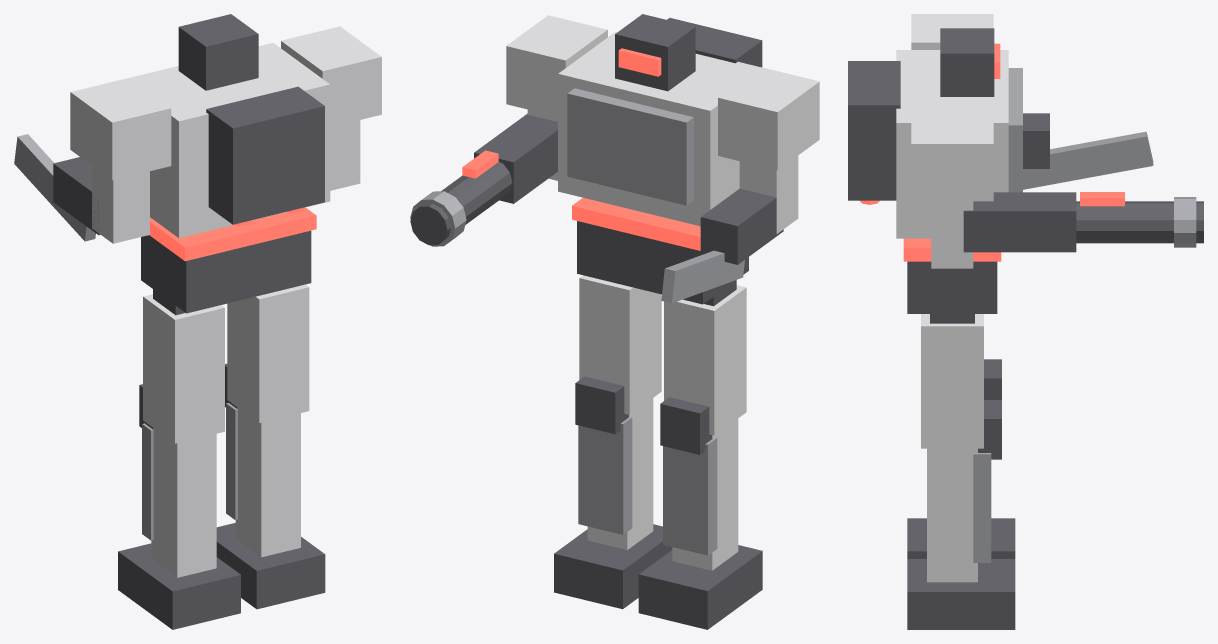
File: jp_ronin.glb
3 renders of one model, left to right at view 1: azimuth 30°, elevation 25°; view 2: azimuth 150°, elevation 25°; view 3: azimuth 270°, elevation 25°, orthographic.
Visible parts, largest first — view 1: Turret, Thigh, Thigh.001, Pelvis, Shin, Shin.001, Foot, Foot.001, PelvisTrim, ShinPlate, ShinPlate.001; view 2: Turret, Thigh, Thigh.001, Foot, Foot.001, Pelvis, ShinPlate, ShinPlate.001, Shin, Shin.001, PelvisTrim, Knee.001 (+1 smaller); view 3: Turret, Thigh.001, Foot.001, Shin.001, Pelvis, ShinPlate.001, Foot, Knee.001, PelvisTrim, Knee.
Boxes of the visible parts, x1=… form: Turret: x1=14, y1=14, x2=381, y2=243; Thigh: x1=143, y1=294, x2=224, y2=443; Thigh.001: x1=227, y1=284, x2=309, y2=423; Pelvis: x1=141, y1=230, x2=311, y2=313; Shin: x1=151, y1=428, x2=216, y2=577; Shin.001: x1=235, y1=407, x2=300, y2=557; Foot: x1=118, y1=543, x2=240, y2=629; Foot.001: x1=216, y1=523, x2=325, y2=609; PelvisTrim: x1=149, y1=207, x2=316, y2=261; ShinPlate: x1=142, y1=423, x2=153, y2=540; ShinPlate.001: x1=226, y1=403, x2=237, y2=519; Turret: x1=410, y1=14, x2=819, y2=303; Thigh: x1=664, y1=285, x2=746, y2=435; Thigh.001: x1=579, y1=275, x2=661, y2=414; Foot: x1=638, y1=545, x2=762, y2=629; Foot.001: x1=554, y1=524, x2=672, y2=609; Pelvis: x1=577, y1=221, x2=748, y2=304; ShinPlate: x1=663, y1=437, x2=717, y2=555; ShinPlate.001: x1=578, y1=417, x2=632, y2=534; Shin: x1=672, y1=418, x2=738, y2=570; Shin.001: x1=587, y1=398, x2=653, y2=549; PelvisTrim: x1=572, y1=197, x2=700, y2=250; Knee.001: x1=575, y1=376, x2=628, y2=434; Turret: x1=848, y1=14, x2=1203, y2=268; Thigh.001: x1=921, y1=314, x2=983, y2=448; Foot.001: x1=907, y1=559, x2=1015, y2=629; Shin.001: x1=927, y1=448, x2=977, y2=582; Pelvis: x1=907, y1=261, x2=997, y2=313; ShinPlate.001: x1=973, y1=453, x2=991, y2=562; Foot: x1=907, y1=518, x2=1015, y2=558; Knee.001: x1=978, y1=400, x2=1001, y2=459; PelvisTrim: x1=903, y1=238, x2=1001, y2=261; Knee: x1=984, y1=359, x2=1001, y2=399.
Bounding box in the file's own units: 2.05 × 4.06 × 2.37.
